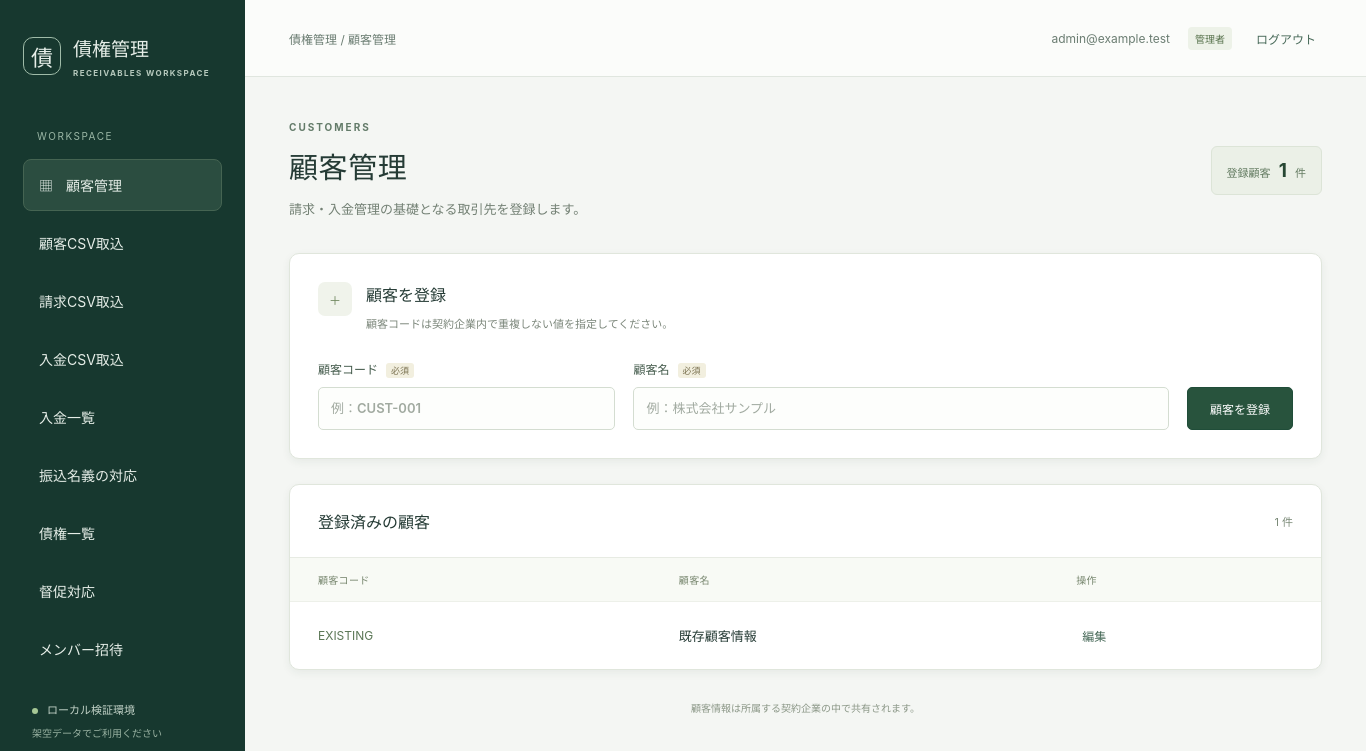
Member invitation › keeps the existing session when the server denies invitation permission
The width and height of the screenshot is (1366, 751).
Click the button "メンバー招待" at {"x": 122, "y": 649}, box [23, 623, 222, 675]
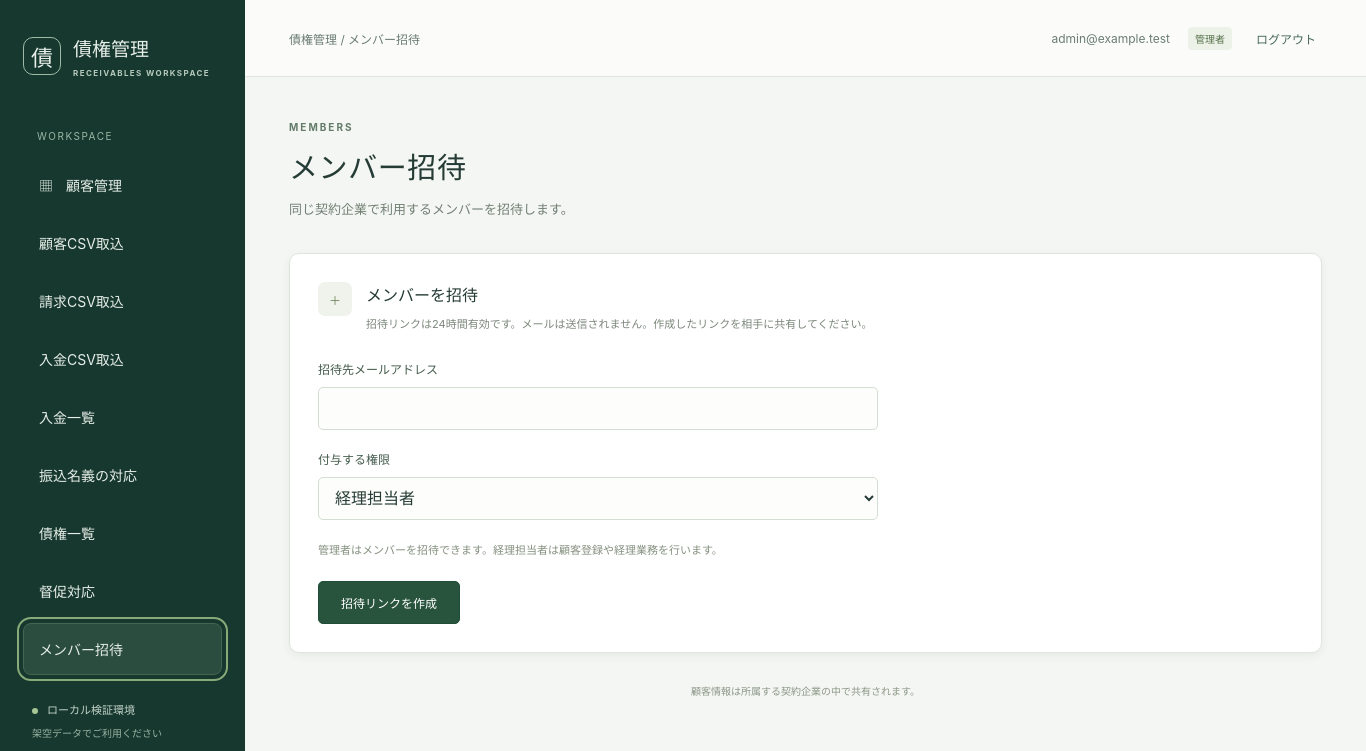
Type "new@example.test" into the field labelled "招待先メールアドレス" at {"x": 598, "y": 408}, box [318, 387, 878, 430]
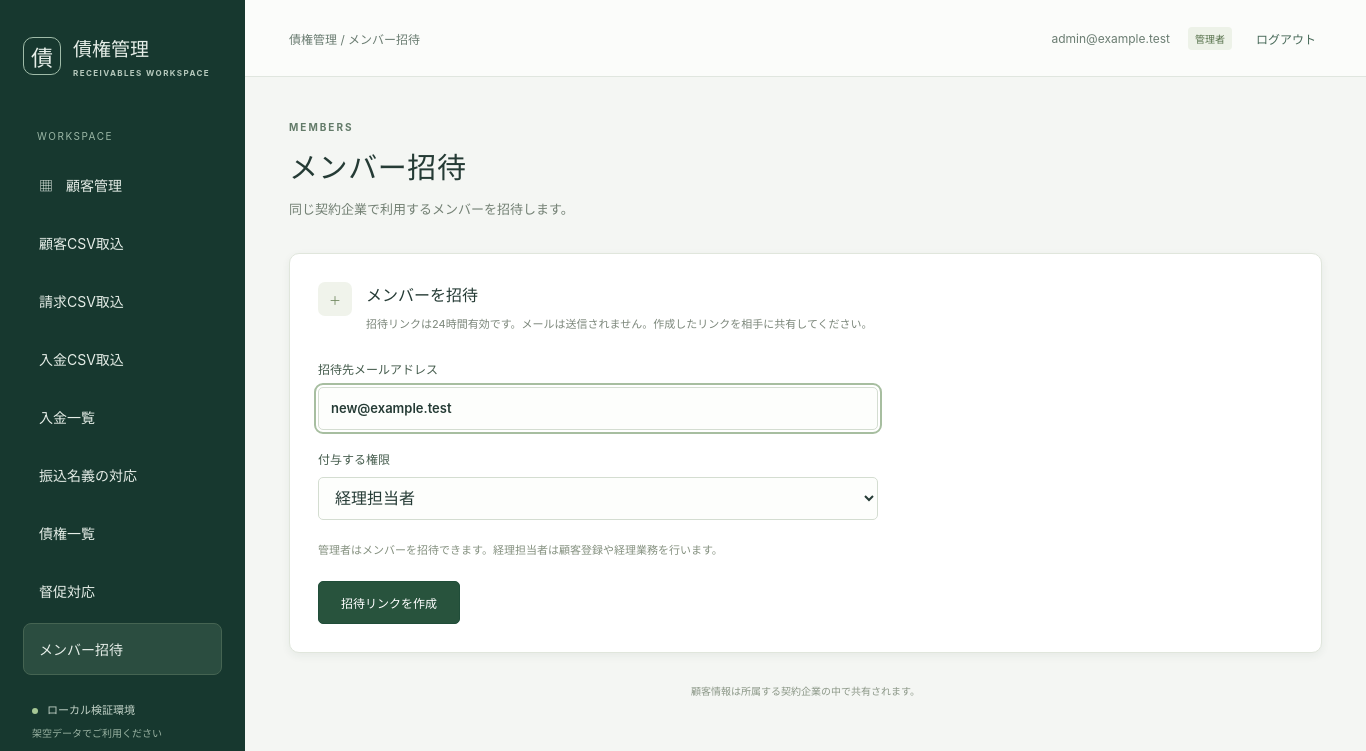
Click the button "招待リンクを作成" at {"x": 389, "y": 602}, box [318, 581, 460, 624]
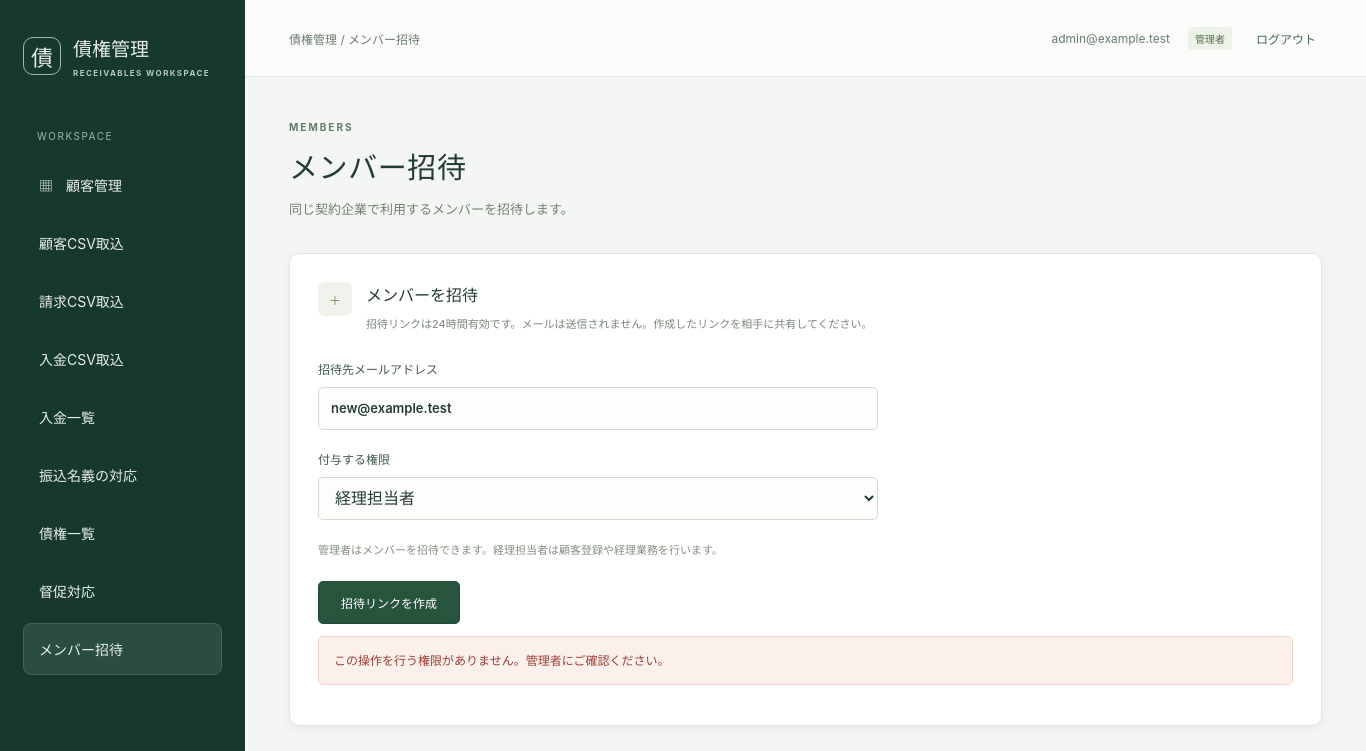
Expected: the text "admin@example.test" is shown, [1052, 30, 1170, 46]
Expected: the message shows "権限がありません", [334, 653, 669, 668]
